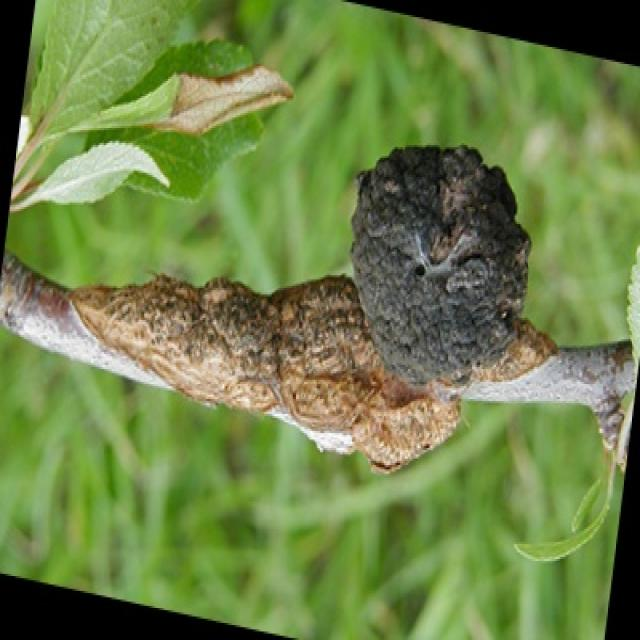Black_knot: (347, 139, 533, 388)
